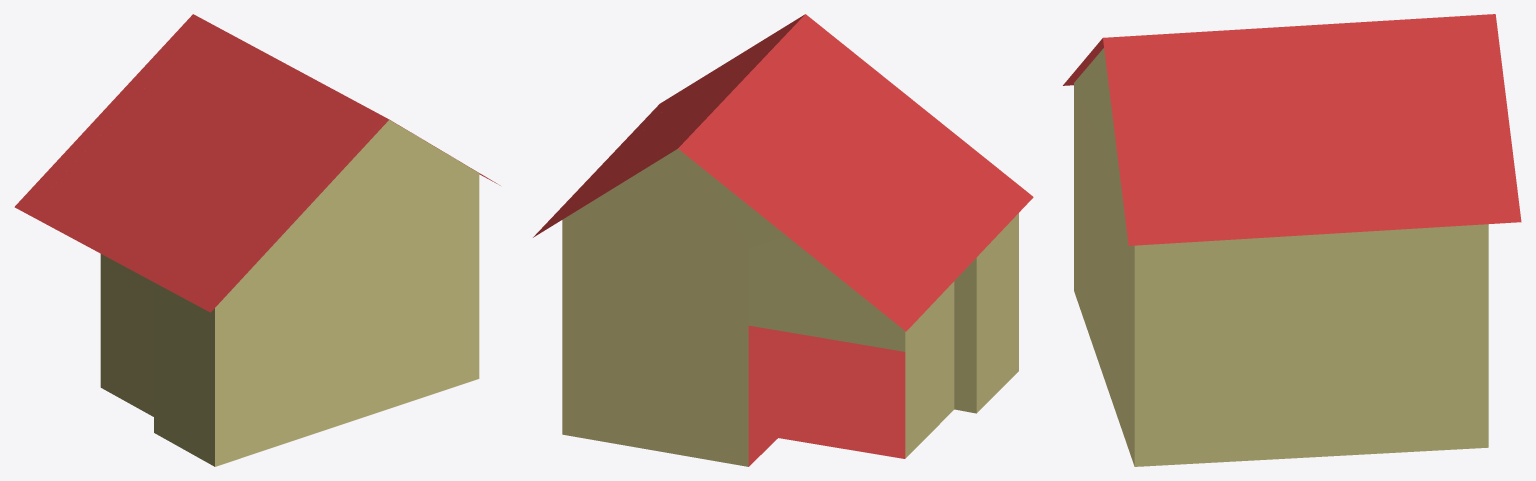
3 views of the same model, side by side, from view 1: azimuth 30°, elevation 25°; view 2: azimuth 150°, elevation 25°; view 3: azimuth 270°, elevation 25° (orthographic). The views are drawn at different scales.
Size of the model in its own units: 14.91 by 13.22 by 11.66.
